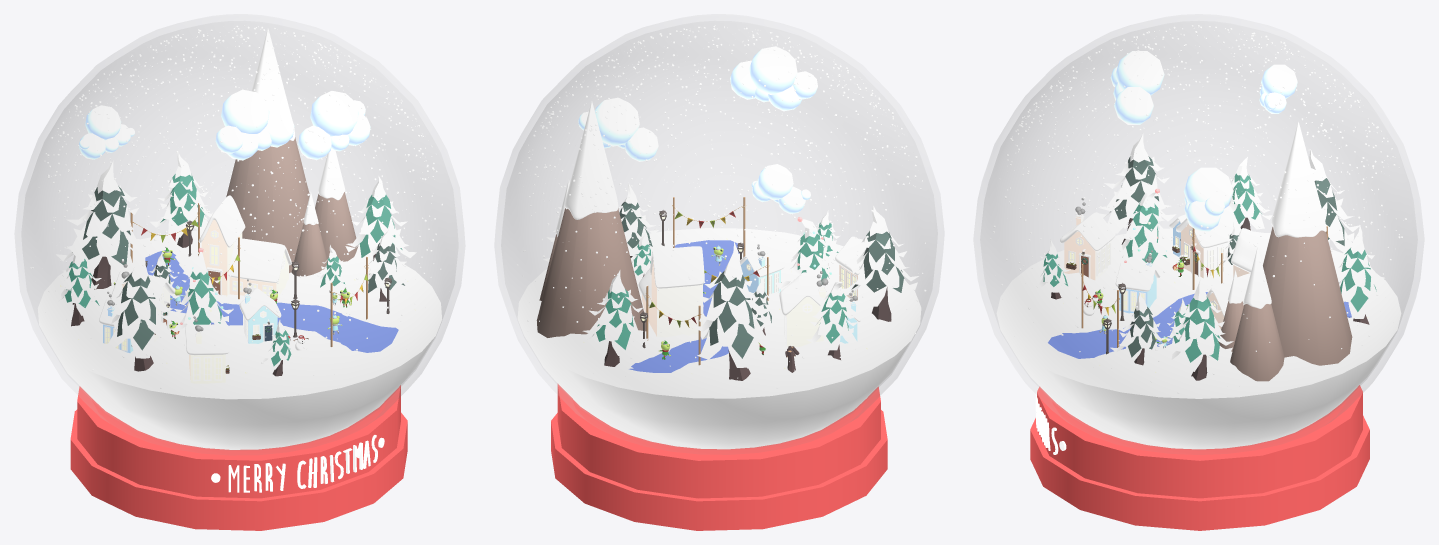
Rendered from globe.glb.
3 views of the same model, side by side, from view 1: azimuth 30°, elevation 25°; view 2: azimuth 150°, elevation 25°; view 3: azimuth 270°, elevation 25° (orthographic).
Parts seen in each view (by area): view 1: snow globe1, snow globe2, Cylinder, snowdrift, snow base, mountain, church, Cylinder.015, ice river, Cylinder.055, Icosphere, Icosphere.001 (+17 smaller); view 2: snow globe1, snow globe2, Cylinder, snowdrift, snow base, mountain, Cylinder.015, church, Cylinder.055, Icosphere, Cylinder.072, Cylinder.009 (+12 smaller); view 3: snow globe1, snow globe2, Cylinder, snowdrift, snow base, mountain, Cylinder.072, Cylinder.016, mountain.001, Icosphere, Cylinder.055, house2 (+15 smaller).
Boxes of the visible parts, x1=… form: snow globe1: x1=15, y1=14, x2=464, y2=421; snow globe2: x1=22, y1=21, x2=457, y2=418; Cylinder: x1=70, y1=385, x2=407, y2=530; snowdrift: x1=40, y1=231, x2=439, y2=397; snow base: x1=37, y1=230, x2=442, y2=449; mountain: x1=226, y1=137, x2=309, y2=272; church: x1=198, y1=195, x2=291, y2=298; Cylinder.015: x1=56, y1=160, x2=147, y2=289; ice river: x1=145, y1=250, x2=398, y2=352; Cylinder.055: x1=103, y1=246, x2=183, y2=371; Icosphere: x1=215, y1=90, x2=294, y2=160; Icosphere.001: x1=298, y1=91, x2=370, y2=159; snow globe1: x1=495, y1=14, x2=943, y2=420; snow globe2: x1=501, y1=21, x2=937, y2=417; Cylinder: x1=551, y1=384, x2=887, y2=530; snowdrift: x1=518, y1=229, x2=919, y2=396; snow base: x1=517, y1=228, x2=921, y2=449; mountain: x1=536, y1=208, x2=646, y2=337; Cylinder.015: x1=692, y1=242, x2=785, y2=380; church: x1=638, y1=246, x2=704, y2=337; Cylinder.055: x1=842, y1=205, x2=918, y2=321; Icosphere: x1=730, y1=46, x2=817, y2=111; Cylinder.072: x1=564, y1=101, x2=618, y2=219; Cylinder.009: x1=582, y1=270, x2=648, y2=366; snow globe1: x1=974, y1=14, x2=1423, y2=423; snow globe2: x1=980, y1=21, x2=1417, y2=420; Cylinder: x1=1030, y1=385, x2=1369, y2=530; snowdrift: x1=1000, y1=228, x2=1398, y2=397; snow base: x1=996, y1=229, x2=1401, y2=449; mountain: x1=1263, y1=227, x2=1352, y2=365; Cylinder.072: x1=1271, y1=122, x2=1326, y2=237; Cylinder.016: x1=1163, y1=279, x2=1233, y2=380; mountain.001: x1=1230, y1=304, x2=1284, y2=381; Icosphere: x1=1110, y1=51, x2=1164, y2=124; Cylinder.055: x1=1098, y1=133, x2=1176, y2=244; house2: x1=1060, y1=198, x2=1115, y2=280.
Size of what is drawn, in the model's own units: 48.56 by 50.37 by 48.56.
